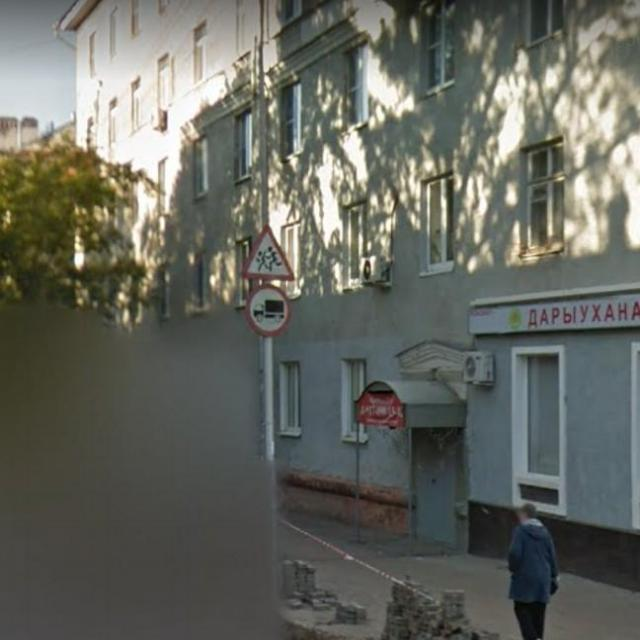Dzieci: (237, 222, 299, 286)
